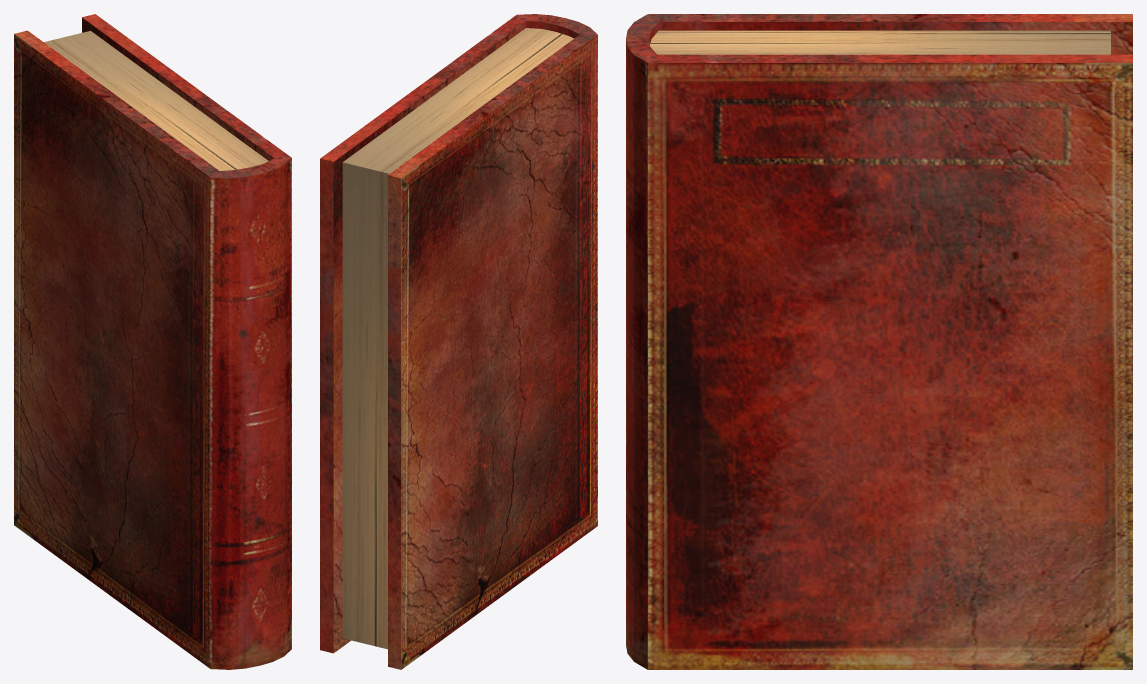
The model's file is LIVRO.FBX.
3 renders of one model, left to right at view 1: azimuth 30°, elevation 25°; view 2: azimuth 150°, elevation 25°; view 3: azimuth 270°, elevation 25°, orthographic. The views are drawn at different scales.
Parts seen in each view (by area): view 1: Livros 1; view 2: Livros 1; view 3: Livros 1.
Boxes of the visible parts, left/top/right/bottom form: Livros 1: left=14, top=14, right=291, bottom=669; Livros 1: left=320, top=14, right=597, bottom=669; Livros 1: left=626, top=14, right=1132, bottom=669.
Bounding box in the file's own units: 40.33 × 233 × 176.
1 material, 1 textured.
